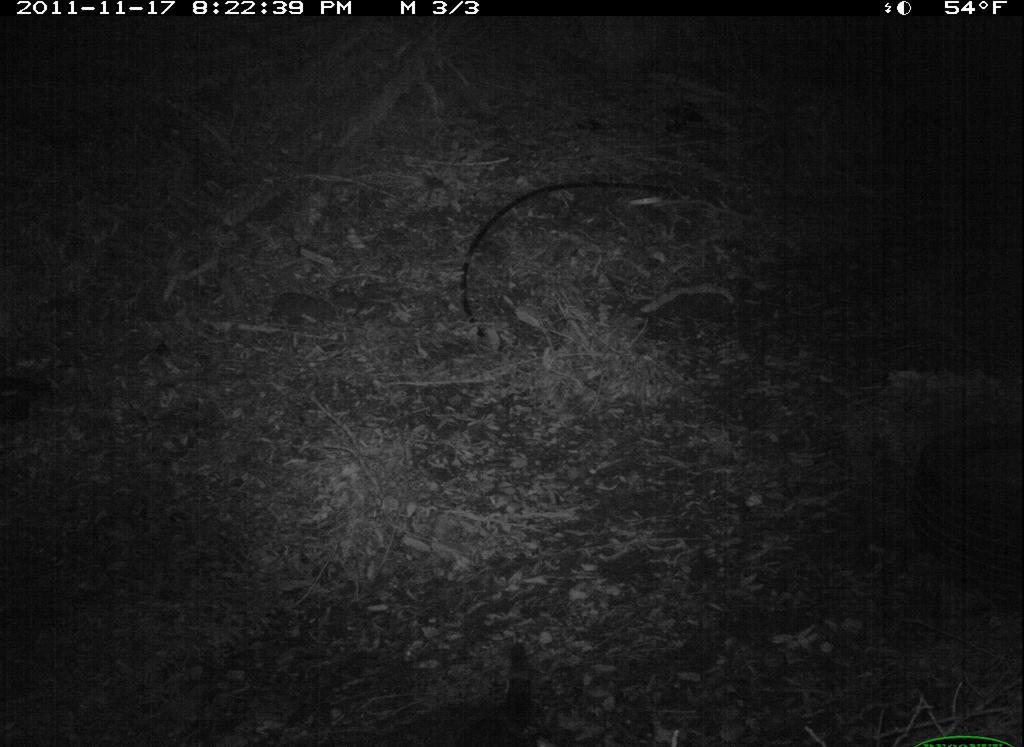cat: (401, 617, 555, 747)
